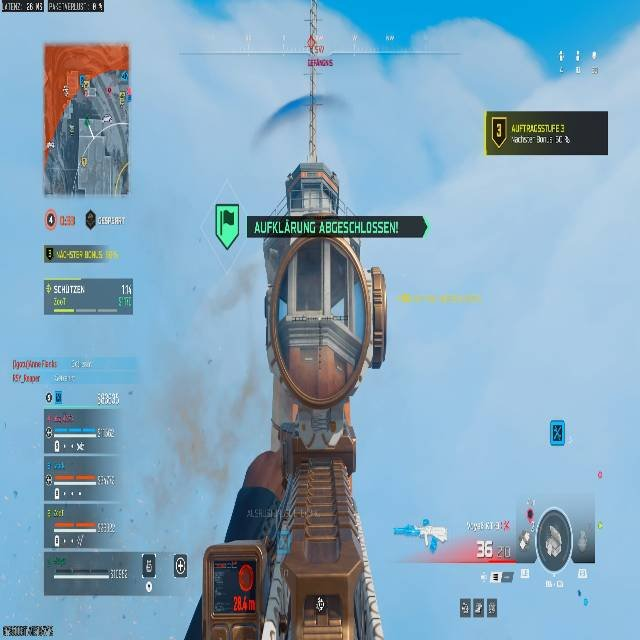head: (267, 240, 384, 406)
player: (223, 308, 394, 640)
